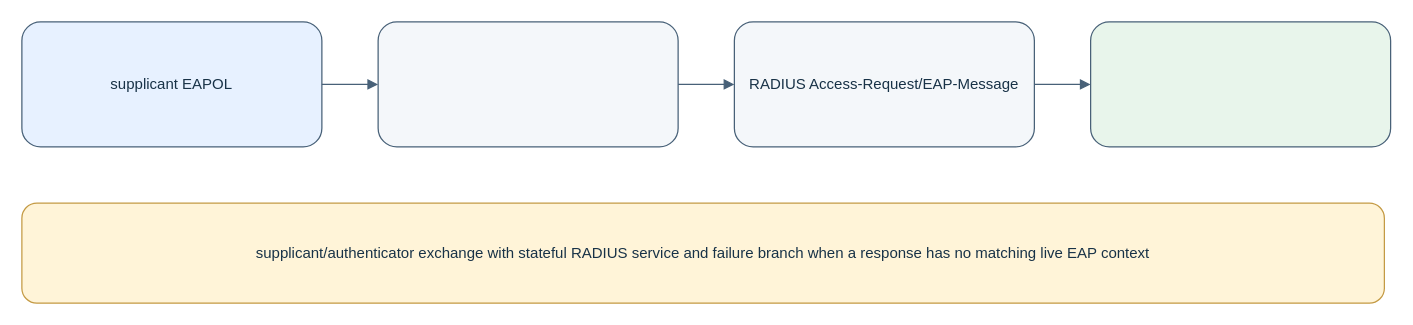
This 1413x325 diagram has some shape labels left out. Here are the shapes that lost their labels. From the top down, the centre of each, then its label:
[527,84]: authenticator switch/AP
[1240,84]: local or proxy EAP processing → Access-Challenge/Accept/Reject → port state
